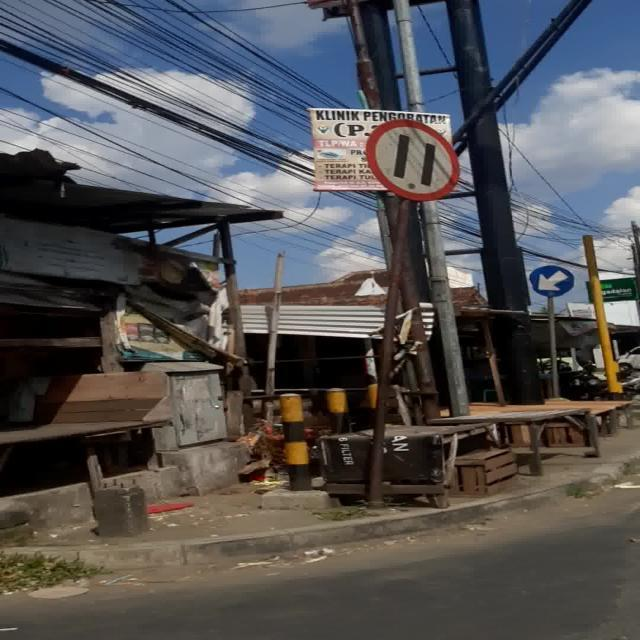Larangan Muatan - 10 ton: (366, 120, 459, 200)
